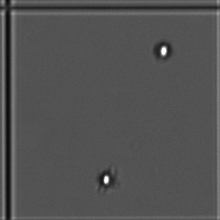Living Cell: (148, 35, 179, 66), (92, 165, 120, 193)
